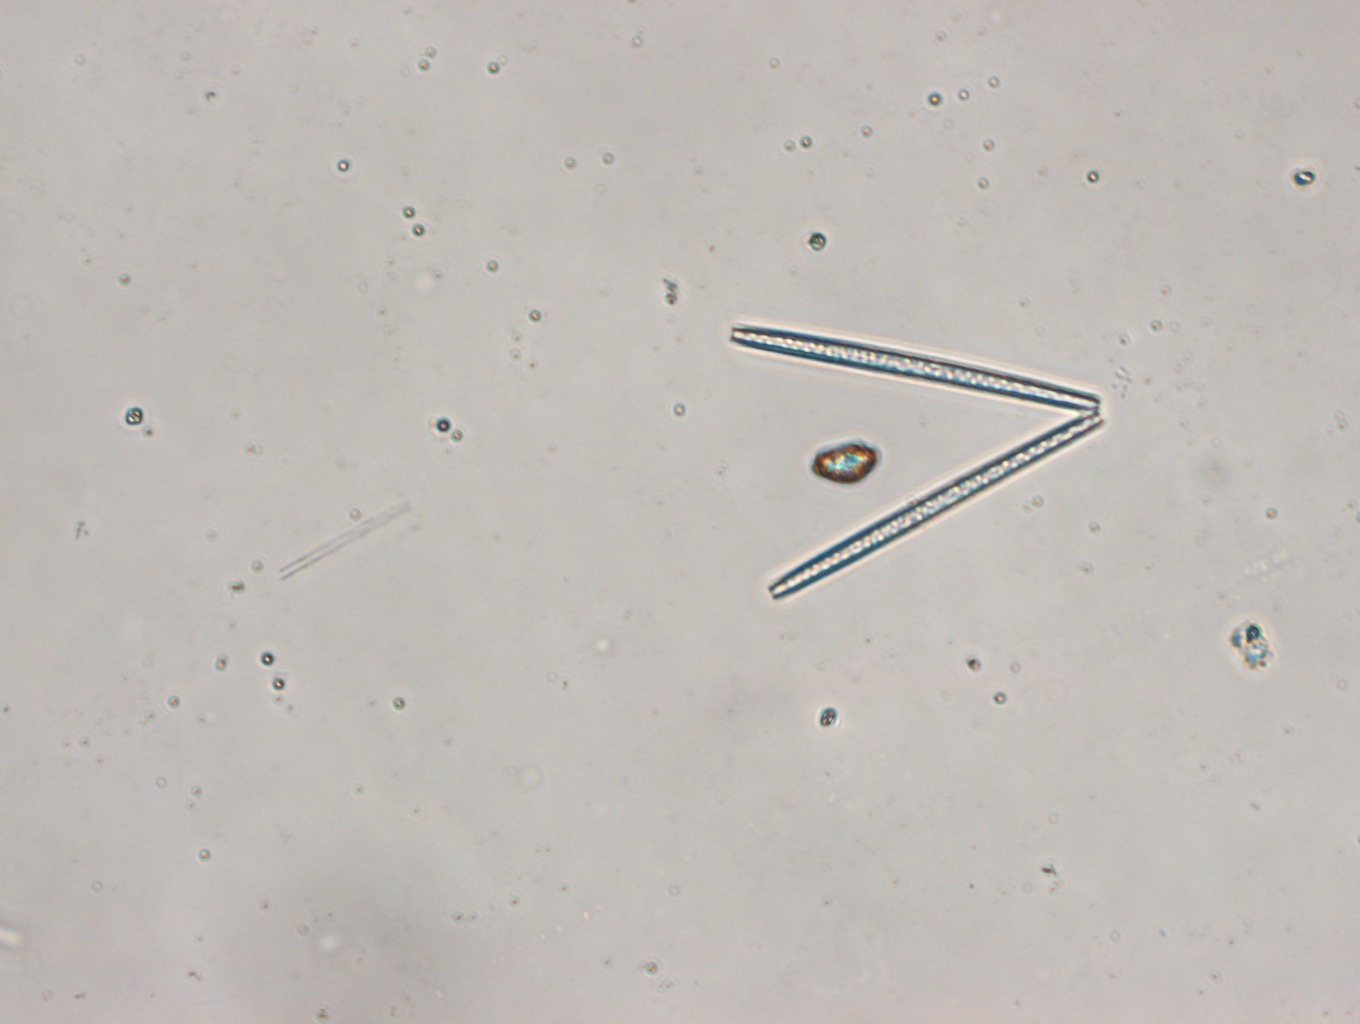thalassionema frauenfeldii: (719, 317, 1105, 600)
